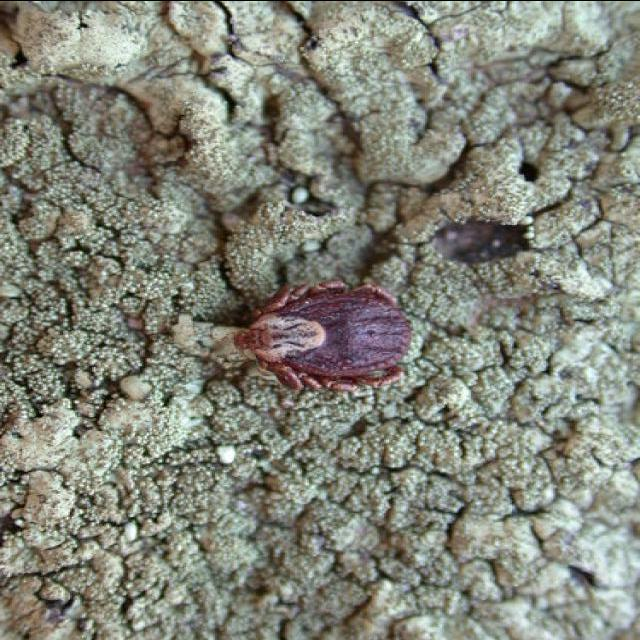Dermacentor Reticulatus-F: (230, 279, 411, 390)
